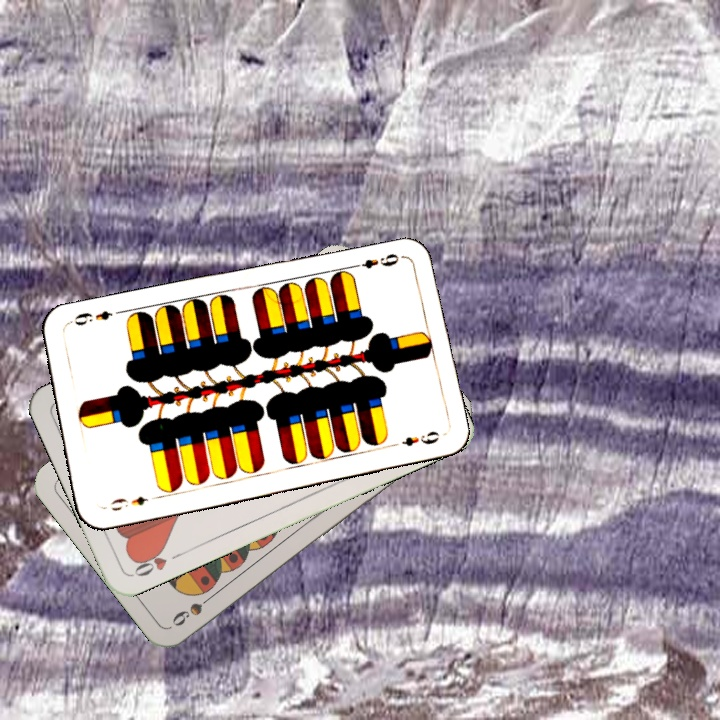E9: (349, 249, 402, 271), (106, 492, 151, 514)
HO: (129, 544, 185, 579)
S9: (168, 588, 219, 629)
